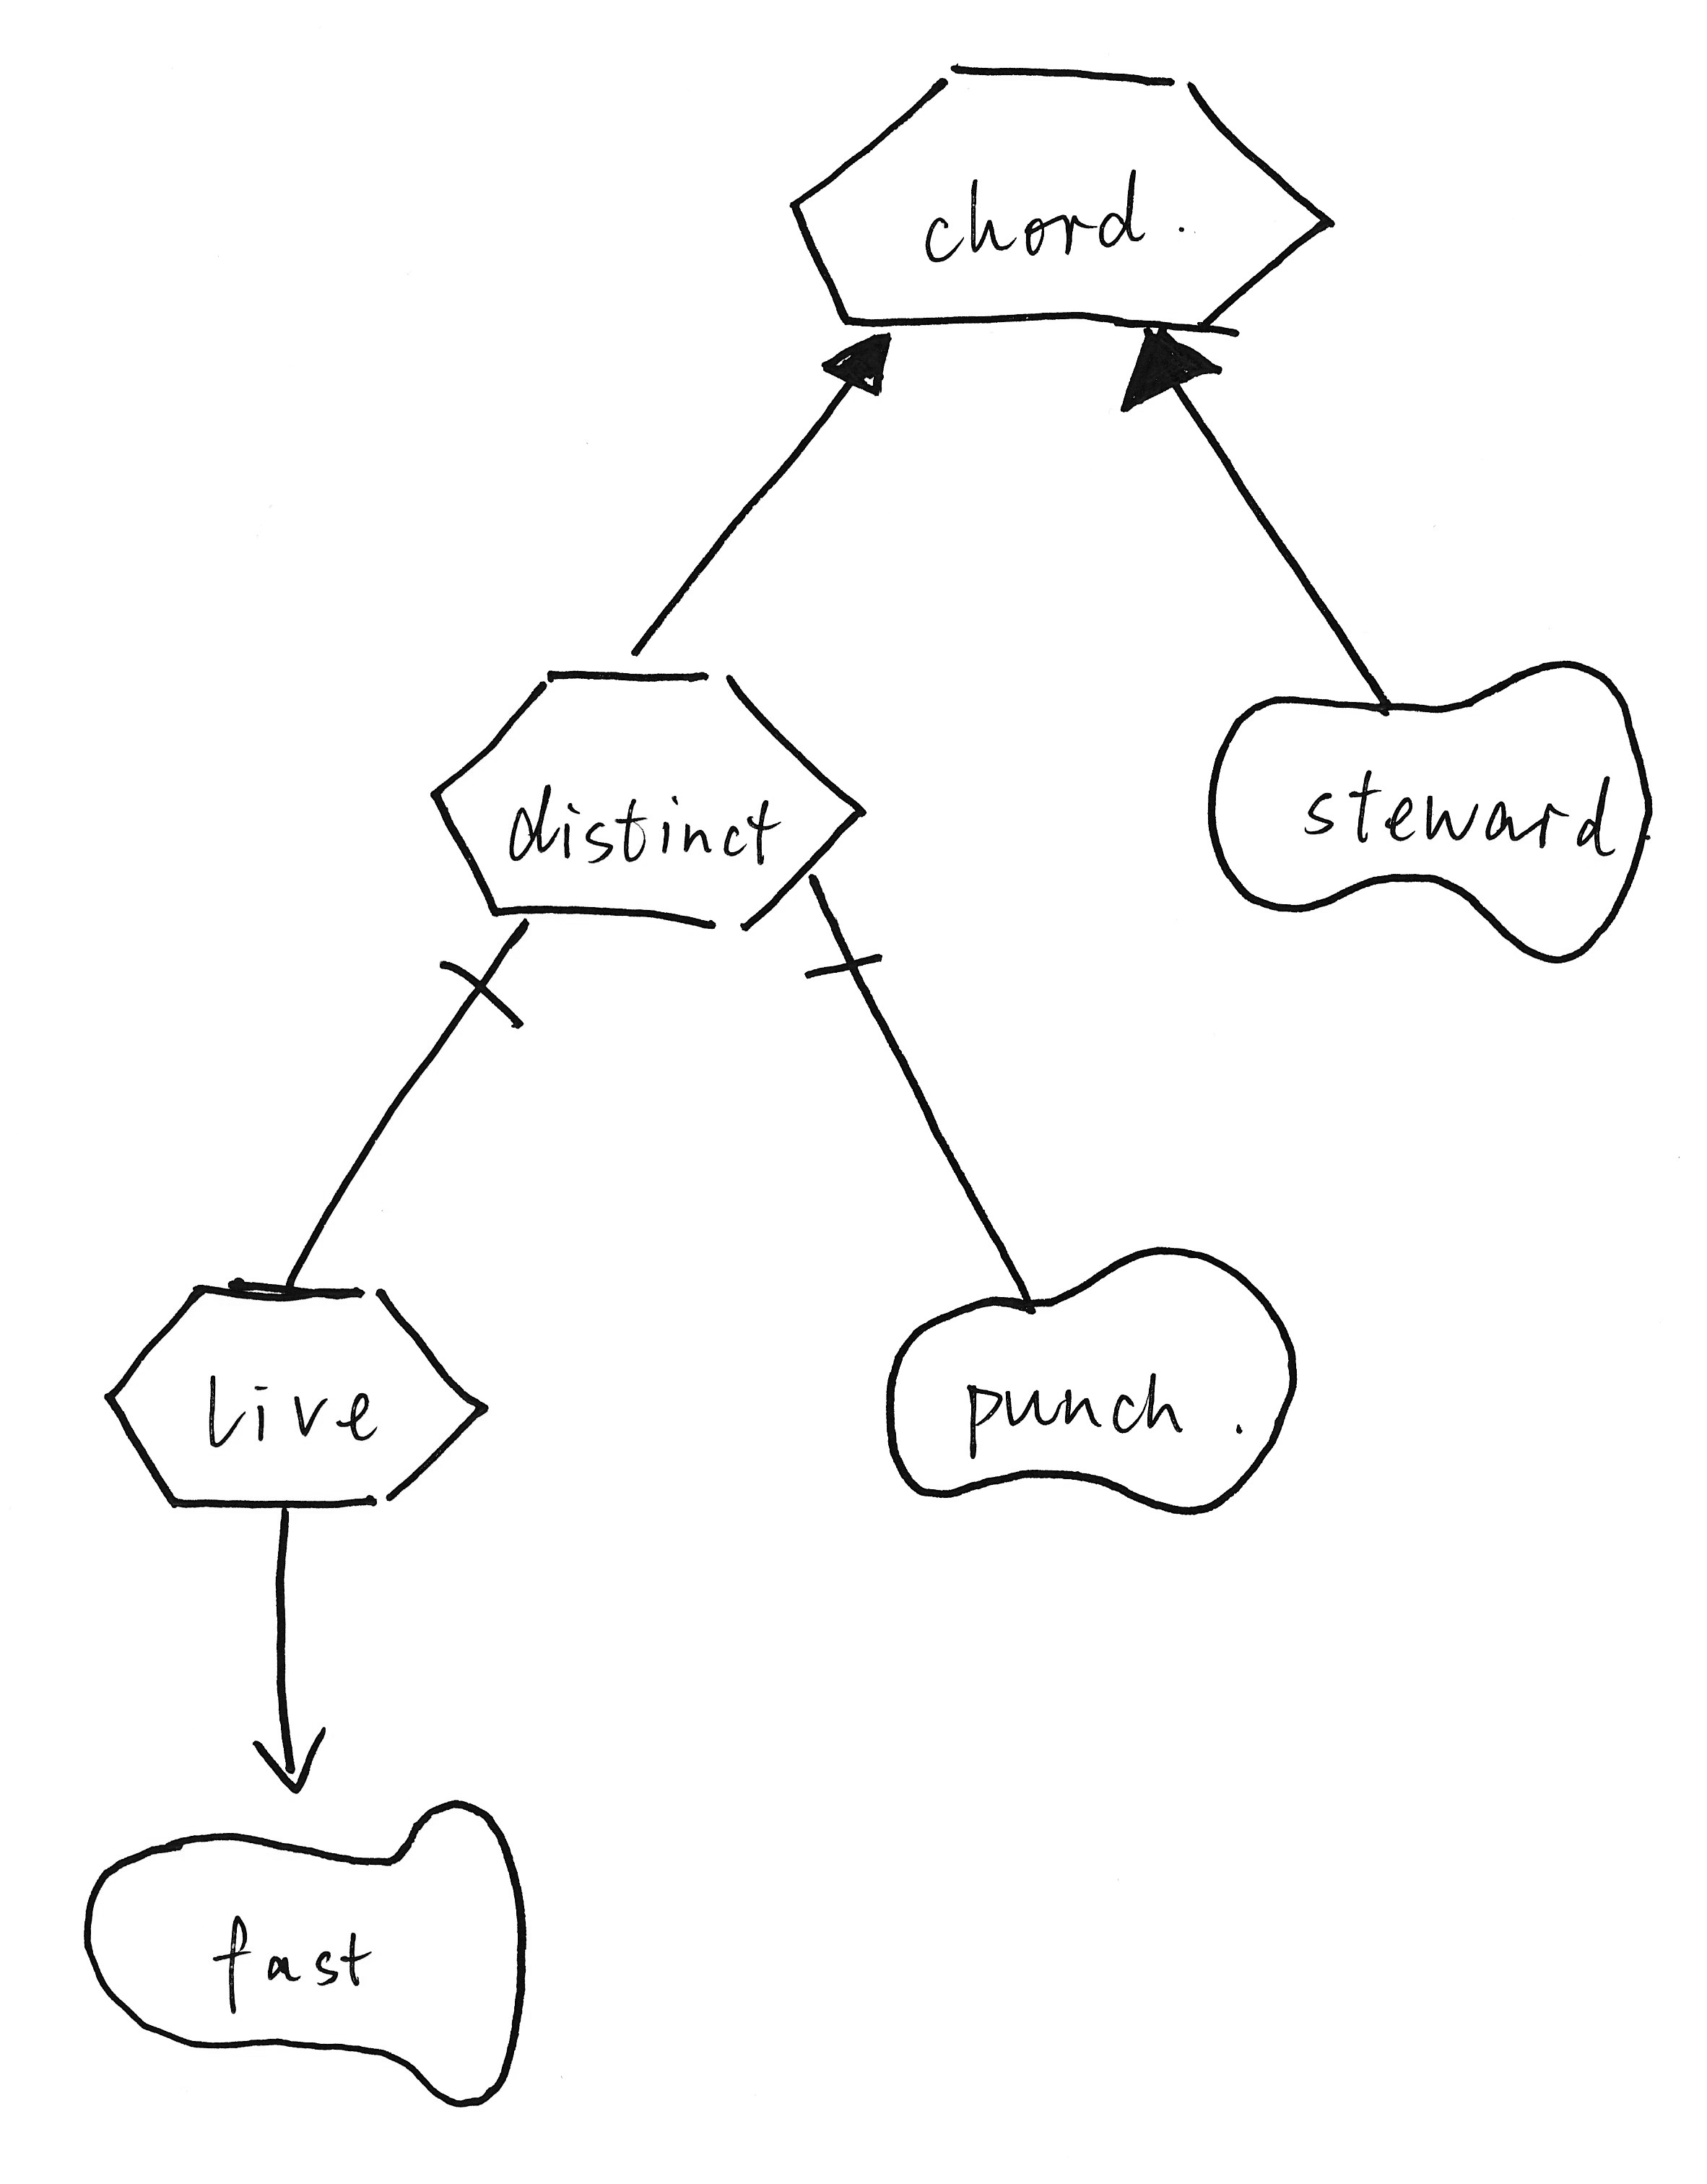and: (422, 915, 553, 1053), (775, 892, 908, 1010)
arrow: (236, 1712, 340, 1813)
or: (1104, 314, 1235, 431), (812, 321, 911, 422)
quality: (67, 1787, 560, 2133), (1191, 638, 1677, 987), (861, 1225, 1312, 1539)
task: (760, 32, 1352, 349), (409, 642, 877, 950), (92, 1260, 502, 1528)
